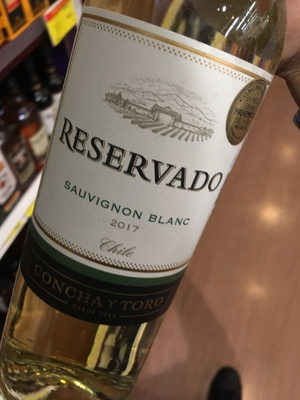reservado sauvignon blanc: (31, 4, 286, 354)
